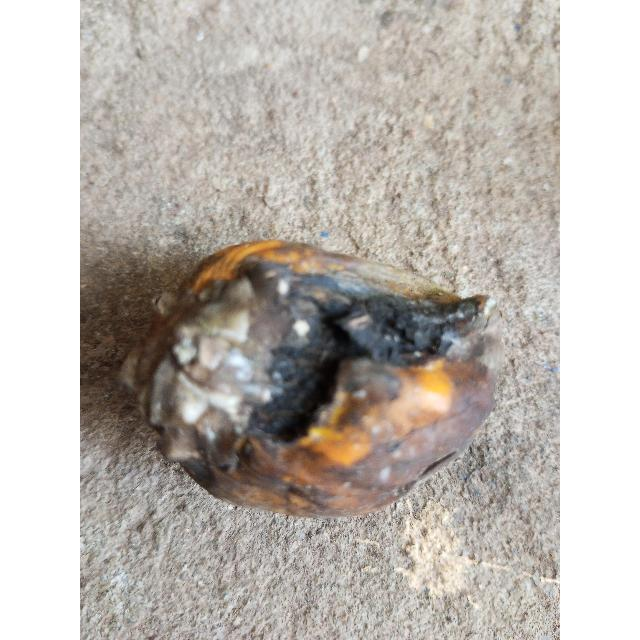damaged: (129, 240, 498, 521)
